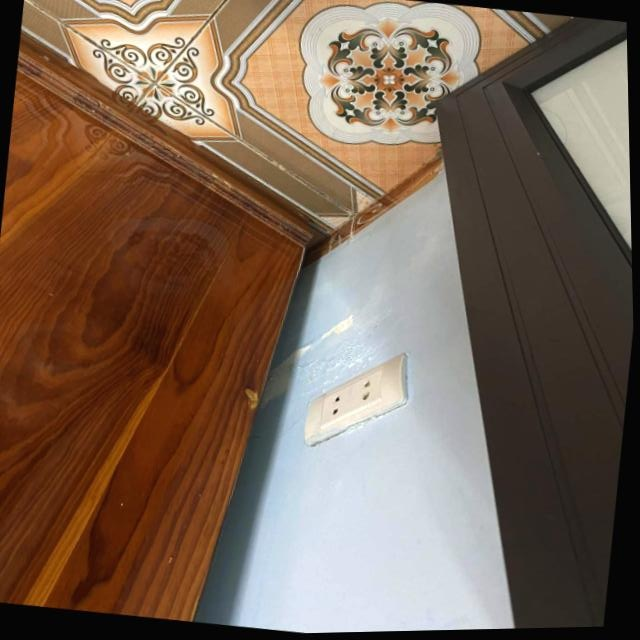outlet: (299, 342, 414, 460)
